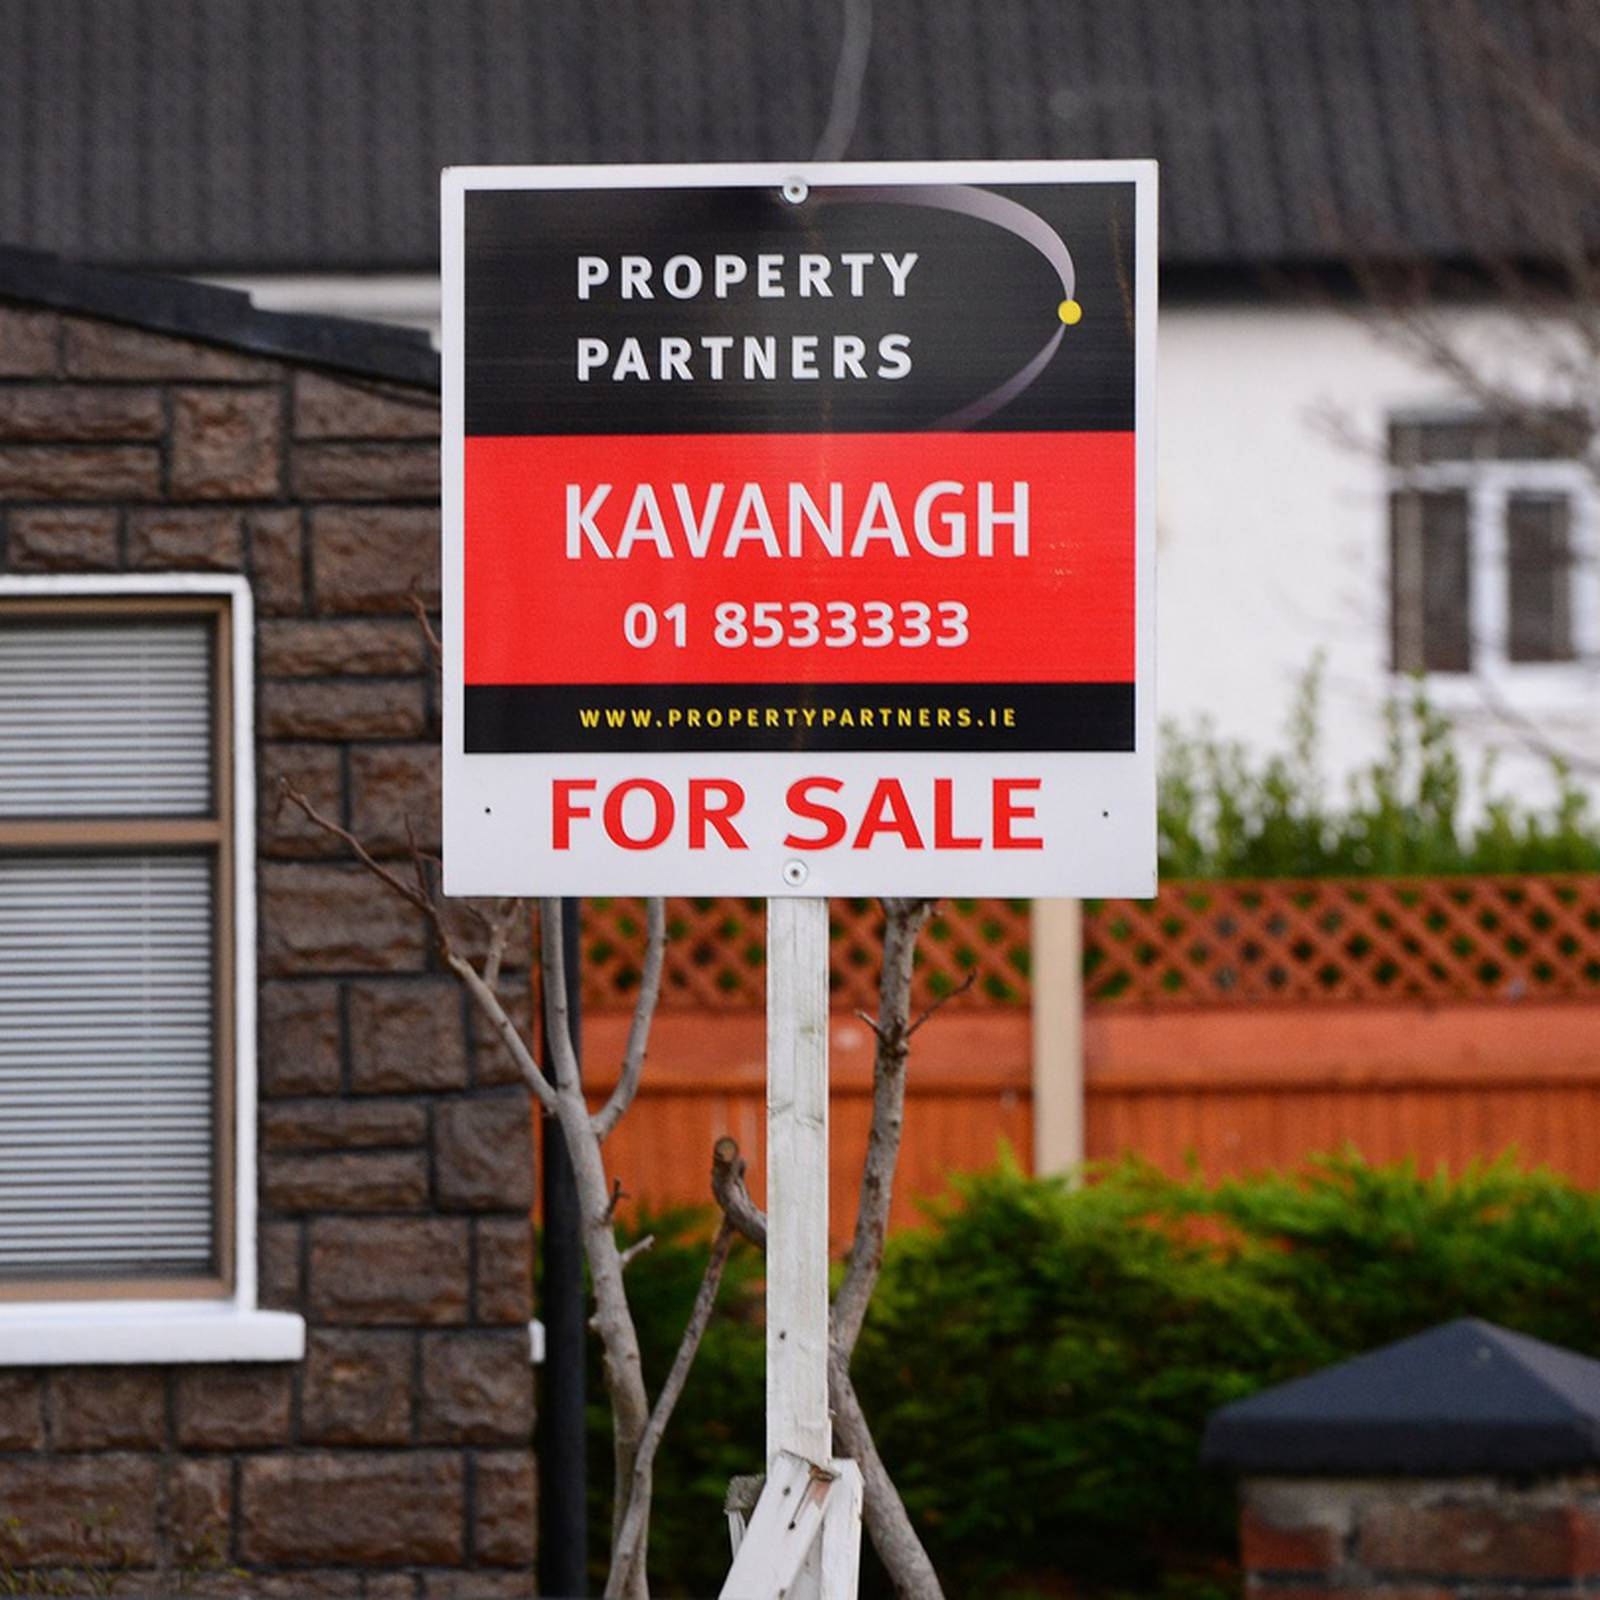property sign: (388, 122, 1196, 947)
